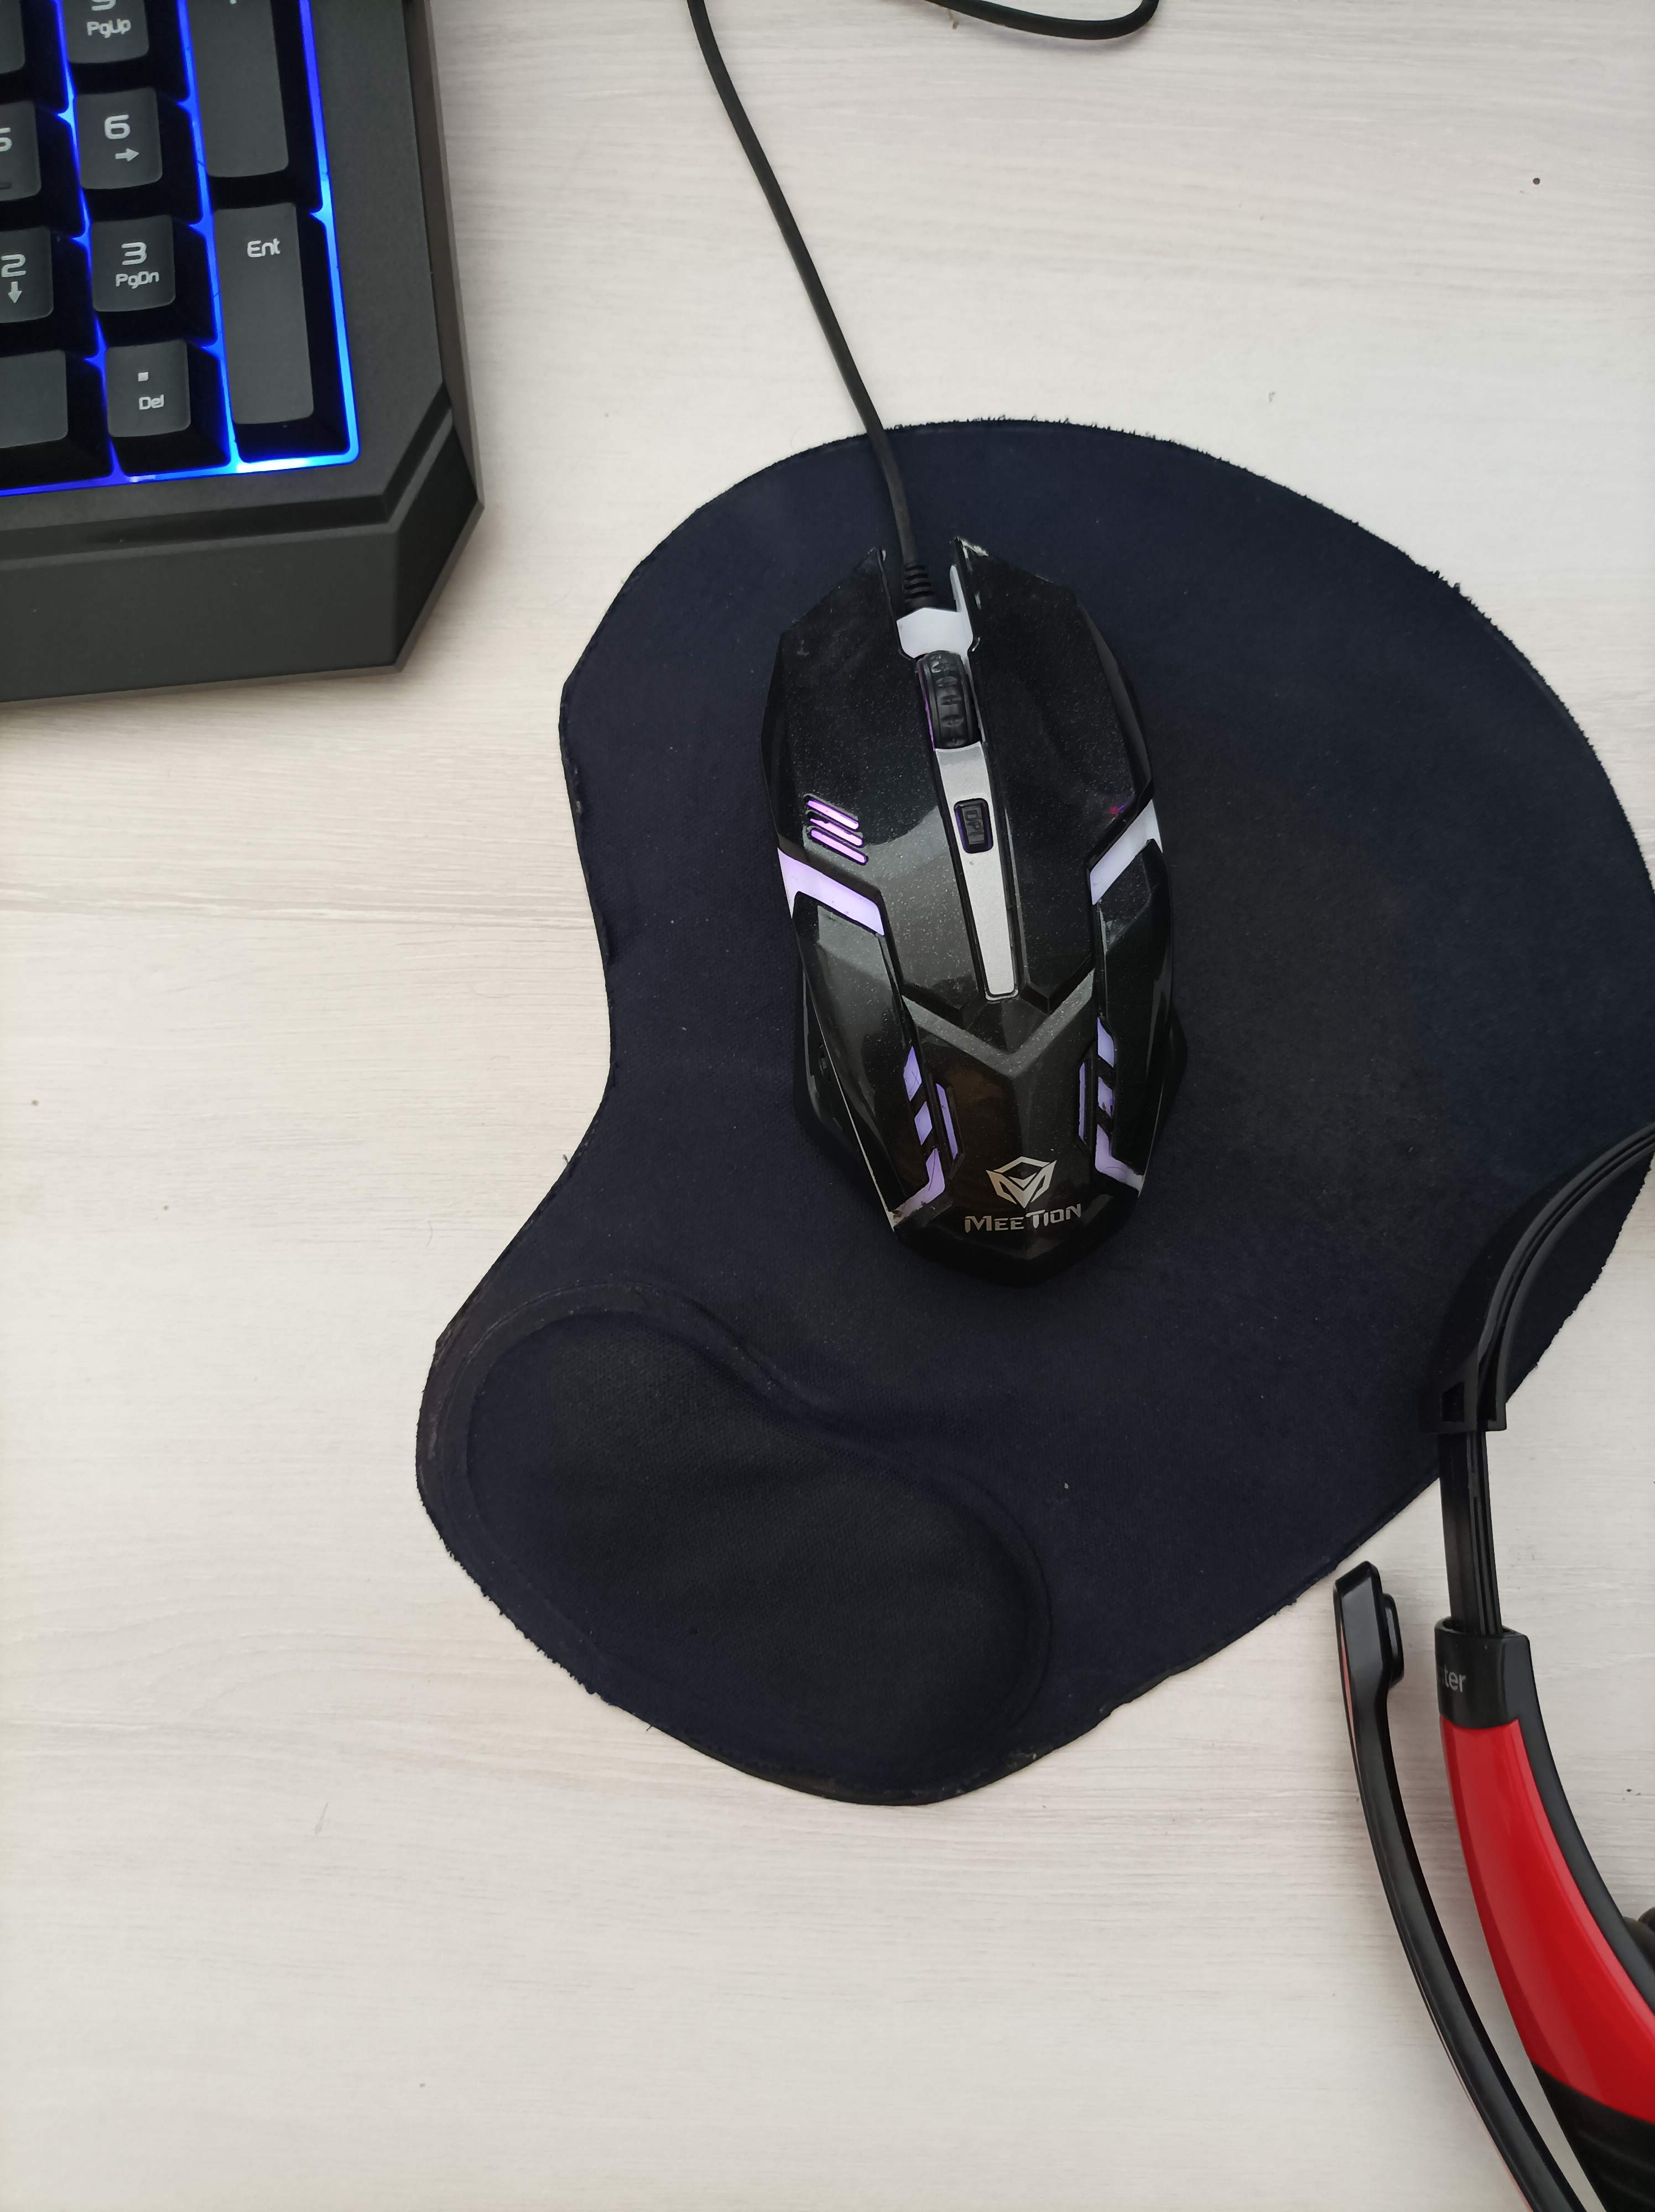keyboard: (5, 9, 489, 721)
mouse: (751, 516, 1196, 1303)
